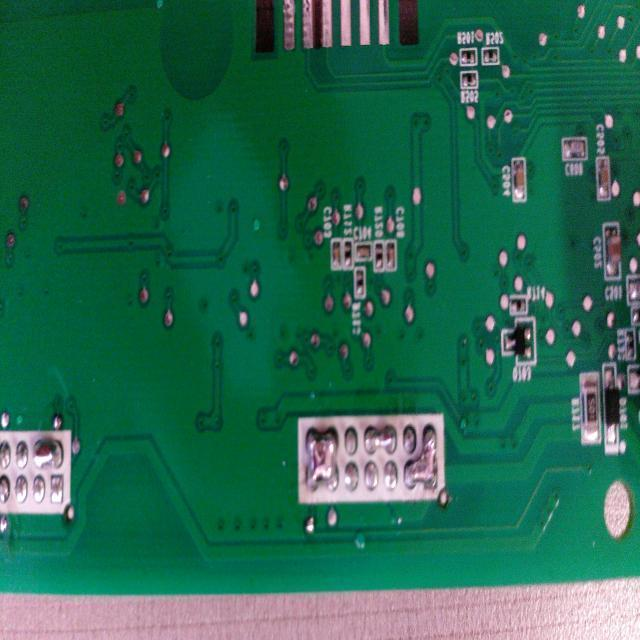Soldering shorted: (303, 423, 340, 498), (403, 421, 438, 493), (362, 419, 398, 458), (30, 438, 66, 472)
